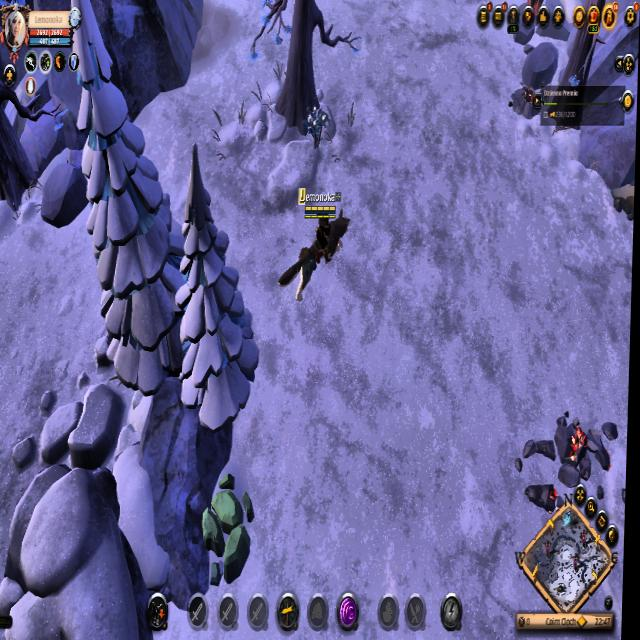fiber tier 4: (304, 103, 332, 149)
rock tier 3: (205, 470, 255, 583)
